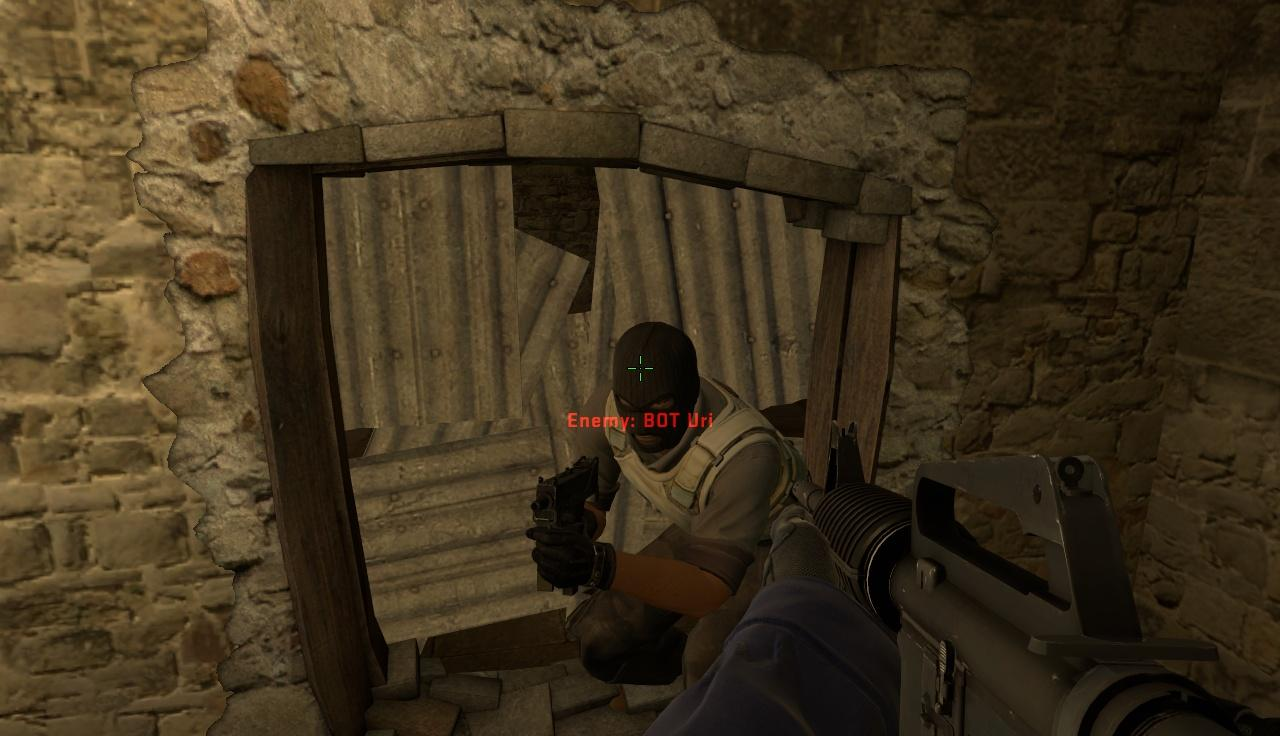rifle: (785, 415, 1280, 731)
tt: (551, 319, 789, 733)
tthead: (613, 323, 694, 451)
